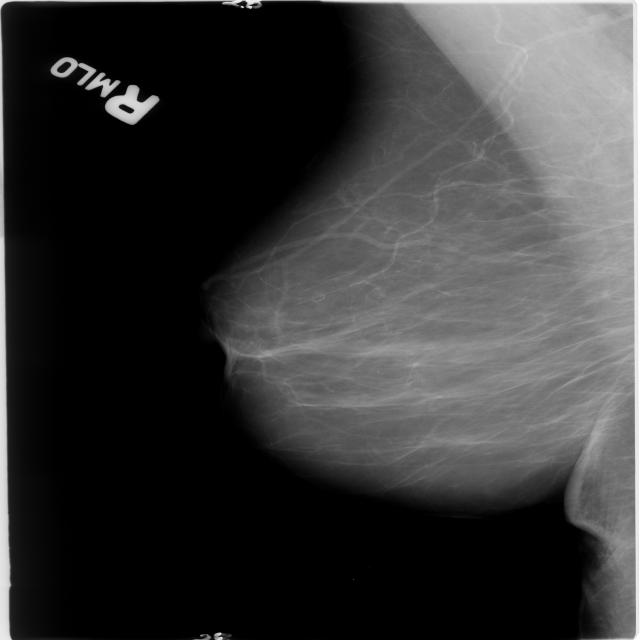normal: (195, 0, 640, 514)
